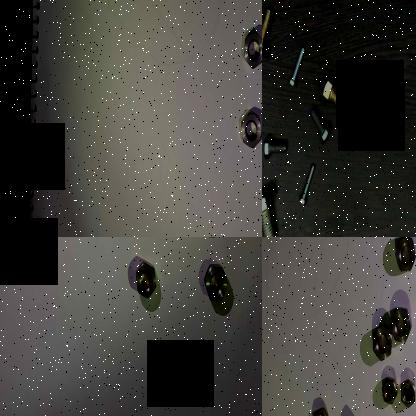Bolts: (318, 70, 359, 124), (304, 106, 334, 148), (297, 158, 319, 212), (262, 4, 279, 62), (262, 131, 292, 163), (287, 40, 305, 89), (262, 180, 277, 237)
NUTS: (133, 252, 160, 302), (203, 260, 229, 304), (388, 303, 414, 347), (235, 108, 262, 150), (241, 26, 262, 70), (392, 237, 416, 275), (370, 322, 393, 360), (378, 374, 398, 406), (398, 379, 416, 409), (311, 400, 329, 416)
